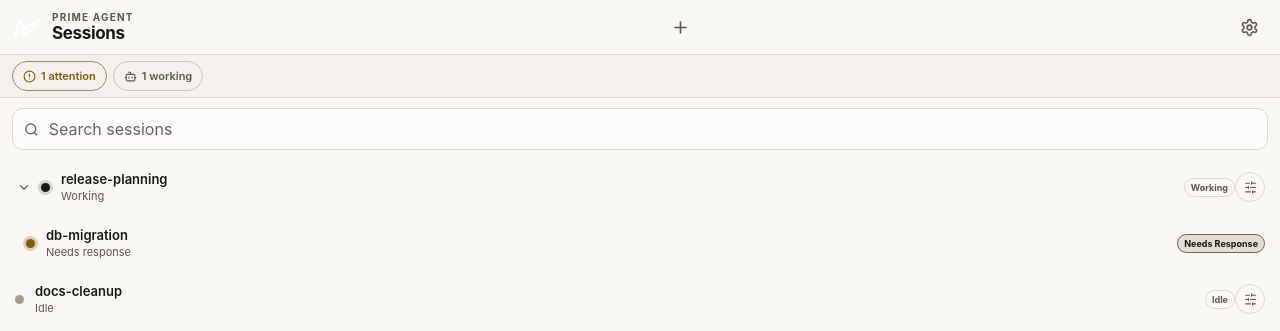
Test: AgentsPanel › filters sessions by search while keeping ancestors of a match
In the field with placeholder "Search sessions": (651, 129) [47, 109, 1256, 149], type "db-migration"
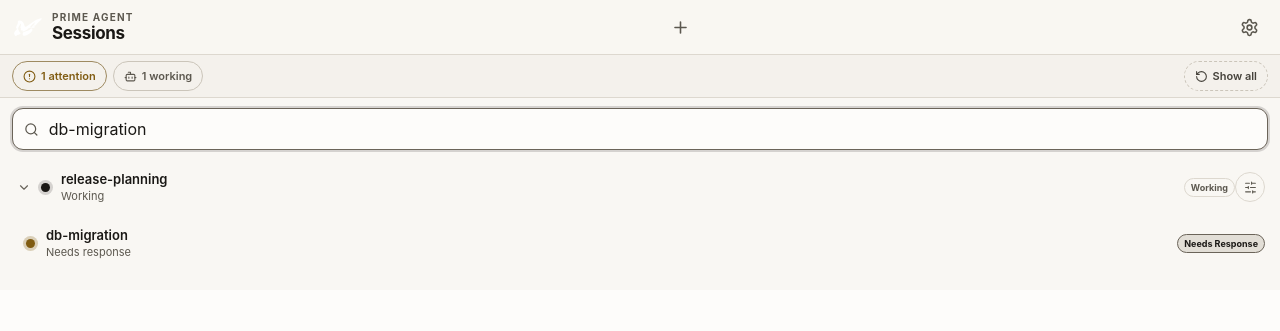
Expected: the list item "release-planning Working Working" is shown, [7, 160, 1273, 214]
Expected: the text "docs-cleanup" is gone
